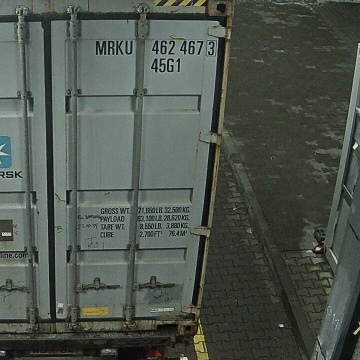serial_id: (96, 40, 215, 55)
